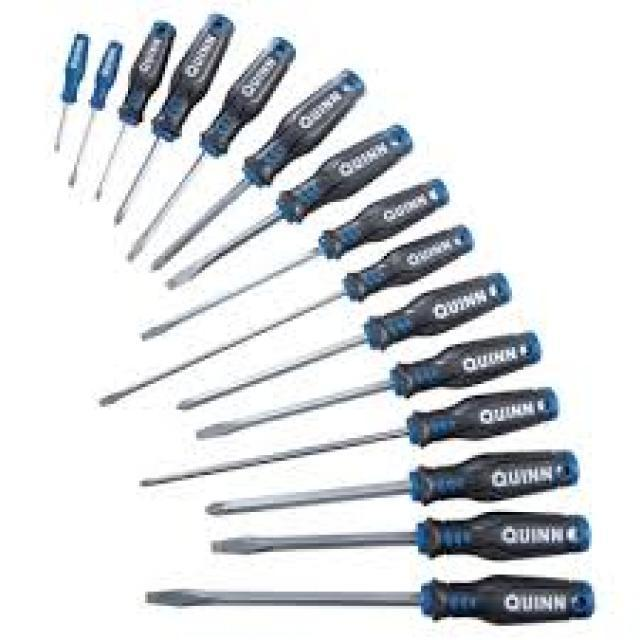screwdriver: (91, 224, 478, 410), (132, 178, 451, 352), (164, 270, 516, 418), (140, 65, 366, 279), (160, 120, 416, 298), (134, 387, 566, 492), (120, 33, 298, 266), (189, 330, 548, 441), (101, 10, 237, 232), (199, 448, 583, 522), (137, 573, 598, 627), (202, 509, 592, 563), (88, 15, 176, 204), (67, 36, 124, 196), (51, 24, 91, 161)
